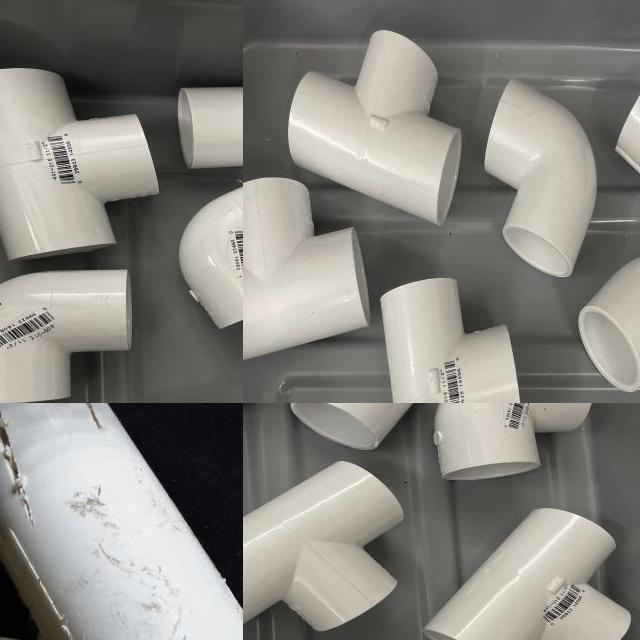Defective: (5, 542, 77, 640), (0, 408, 25, 497), (78, 403, 120, 434)
L Joint: (0, 269, 135, 403), (433, 403, 592, 480), (177, 188, 243, 331)
T Joint: (0, 68, 161, 264), (243, 461, 406, 636), (423, 509, 634, 640)
